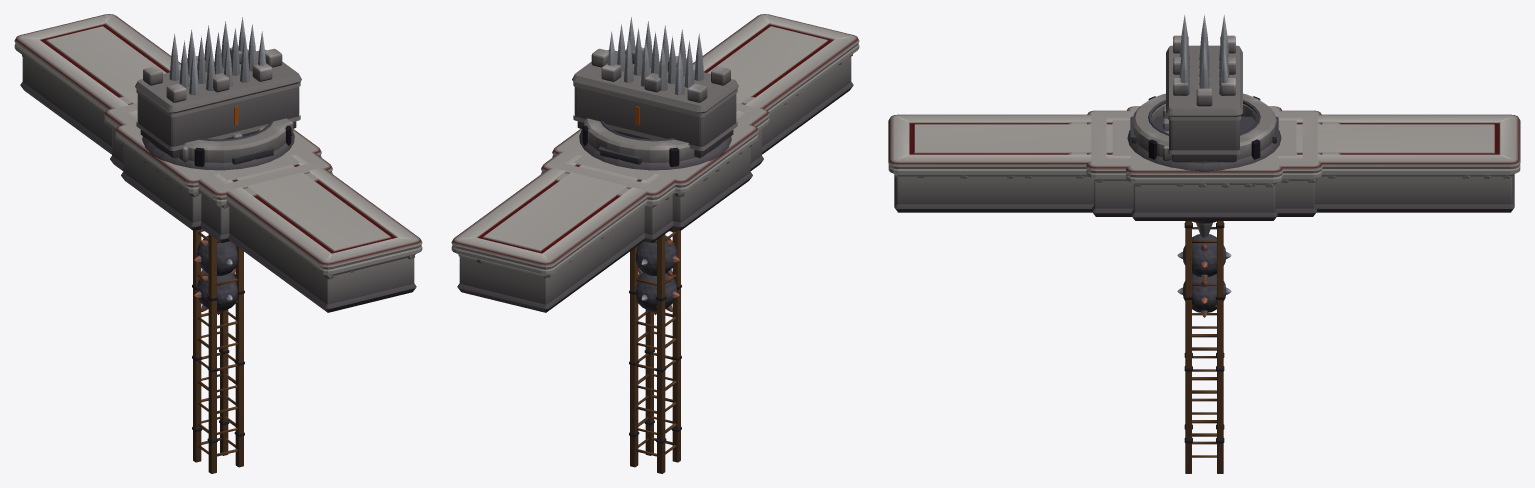
The model's file is fortress-1-DOfceXE-.glb.
3 views of the same model, side by side, from view 1: azimuth 30°, elevation 25°; view 2: azimuth 150°, elevation 25°; view 3: azimuth 270°, elevation 25° (orthographic).
Parts seen in each view (by area): view 1: block_6x2x32_grate#0, spout_6x2#0, truss_18#0, block_7x2x12#0, block_8x2x8_shard#0, spikes_5x6x3#0, geyserVent_5.4#0, block_8x2x6#0, blade_3x10x1_wheel#0, blade_3x8x1#0; view 2: block_6x2x32_grate#0, spout_6x2#0, truss_18#0, block_7x2x12#0, geyserVent_5.4#0, spikes_5x6x3#0, block_8x2x8_shard#0, block_8x2x6#0, blade_3x10x1_wheel#0, blade_3x8x1#0; view 3: block_6x2x32_grate#0, block_7x2x12#0, spout_6x2#0, block_8x2x8_shard#0, block_8x2x6#0, truss_18#0, geyserVent_5.4#0, spikes_5x6x3#0, blade_3x8x1#0, blade_3x10x1_wheel#0, block_6x2x14_ice#0.
Part boxes in pixels (x1,y1,x2,y2): block_6x2x32_grate#0: (14,14,422,312); spout_6x2#0: (135,46,301,161); truss_18#0: (192,229,244,473); block_7x2x12#0: (104,103,332,243); block_8x2x8_shard#0: (115,124,321,230); spikes_5x6x3#0: (169,17,266,95); geyserVent_5.4#0: (142,118,294,170); block_8x2x6#0: (126,131,306,219); blade_3x10x1_wheel#0: (194,268,237,314); blade_3x8x1#0: (194,235,238,276); block_6x2x32_grate#0: (451,14,859,312); spout_6x2#0: (572,46,738,158); truss_18#0: (629,229,681,473); block_7x2x12#0: (541,103,769,243); geyserVent_5.4#0: (579,118,731,170); spikes_5x6x3#0: (607,17,704,95); block_8x2x8_shard#0: (552,124,758,230); block_8x2x6#0: (566,129,747,219); blade_3x10x1_wheel#0: (636,268,679,314); blade_3x8x1#0: (635,235,679,276); block_6x2x32_grate#0: (888,114,1520,212); block_7x2x12#0: (1086,110,1322,216); spout_6x2#0: (1163,35,1242,162); block_8x2x8_shard#0: (1125,106,1283,220); block_8x2x6#0: (1150,165,1258,220); truss_18#0: (1184,221,1224,473); geyserVent_5.4#0: (1127,93,1281,171); spikes_5x6x3#0: (1179,14,1229,96); blade_3x8x1#0: (1177,232,1231,281); blade_3x10x1_wheel#0: (1177,274,1231,317); block_6x2x14_ice#0: (1067,114,1341,210).
Size of the model in its own units: 8 by 24.3 by 32.
